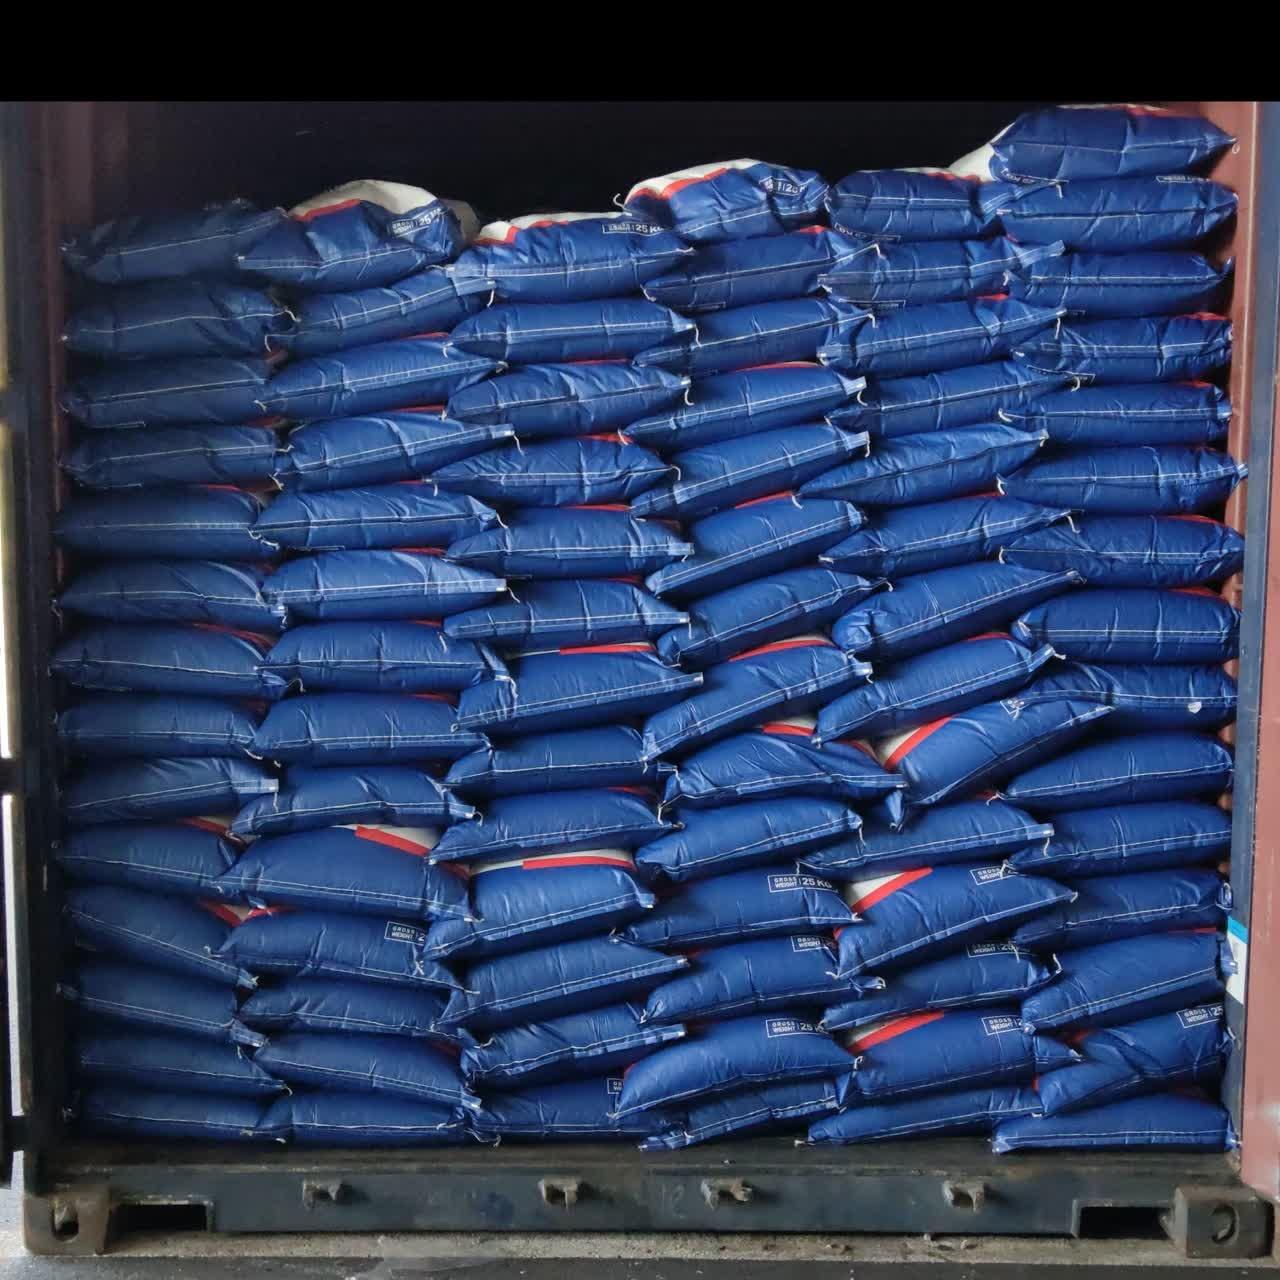sack: (876, 696, 1112, 813), (240, 177, 478, 293), (839, 862, 1073, 978), (644, 645, 869, 760), (423, 851, 655, 960), (832, 561, 1082, 661), (620, 1014, 855, 1117), (819, 636, 1056, 738), (438, 935, 687, 1032), (222, 826, 467, 921), (628, 422, 869, 516), (646, 497, 865, 599), (946, 105, 1234, 183), (833, 1012, 1073, 1104), (665, 714, 900, 808), (1034, 1005, 1228, 1117), (658, 567, 874, 668), (444, 213, 693, 301), (622, 362, 864, 452), (458, 647, 702, 736), (645, 935, 887, 1023), (261, 336, 506, 423), (799, 423, 1043, 508), (50, 886, 251, 988), (822, 942, 1051, 1030), (802, 797, 1051, 878), (42, 953, 259, 1046), (822, 495, 1069, 576), (624, 865, 853, 952), (1023, 932, 1223, 1032), (644, 229, 878, 313), (822, 297, 1064, 377), (832, 359, 1078, 437), (635, 797, 862, 881), (62, 198, 285, 284), (62, 279, 298, 360), (461, 1002, 685, 1087), (275, 270, 492, 356), (278, 411, 515, 490), (994, 176, 1237, 252), (1005, 734, 1232, 813), (1013, 869, 1227, 952), (442, 580, 687, 653), (222, 913, 455, 989), (263, 550, 506, 622), (52, 626, 288, 700), (433, 789, 673, 862), (624, 159, 828, 245), (821, 237, 1064, 308), (447, 365, 690, 436), (638, 298, 864, 374), (257, 1034, 483, 1110), (430, 437, 675, 508), (447, 508, 692, 577), (1012, 588, 1237, 663), (1000, 517, 1242, 586), (1010, 801, 1230, 877), (232, 767, 472, 836), (443, 726, 672, 798), (448, 297, 694, 363), (60, 561, 293, 632), (264, 622, 501, 692), (256, 693, 481, 765), (256, 484, 498, 551), (1000, 447, 1240, 513), (60, 356, 273, 430), (41, 1032, 282, 1096), (60, 489, 278, 559), (828, 171, 1044, 241), (1012, 663, 1235, 731), (57, 819, 250, 897), (1002, 382, 1230, 447), (1016, 316, 1231, 384), (992, 1094, 1228, 1155), (64, 425, 282, 491), (1009, 253, 1232, 316), (642, 1078, 839, 1150), (63, 758, 277, 824), (809, 1085, 1041, 1142), (241, 978, 447, 1039), (57, 1088, 287, 1142), (59, 696, 258, 758), (474, 1076, 663, 1139), (267, 1092, 474, 1145)
